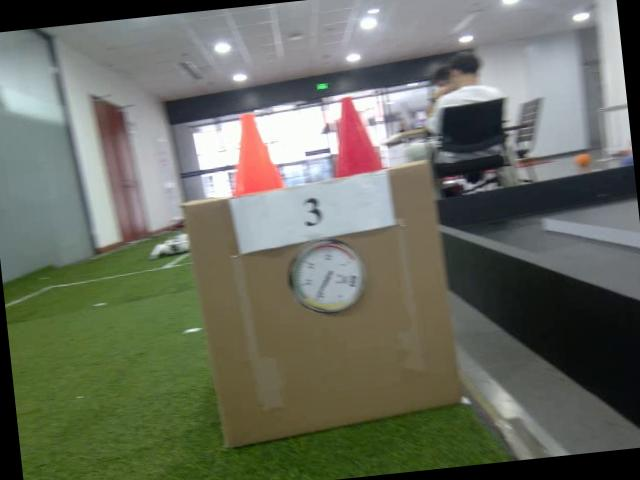3: (300, 196, 324, 229)
Dashboard: (284, 236, 372, 318)
orange_barrel: (224, 108, 284, 194)
red_barrel: (326, 93, 382, 178)
ssi: (348, 274, 357, 288)
